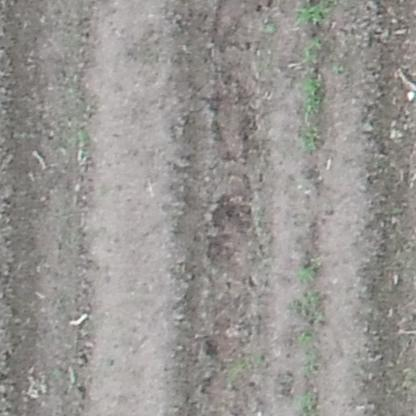corn: (301, 74, 325, 116), (295, 4, 333, 23), (302, 349, 318, 374), (298, 264, 317, 284)
